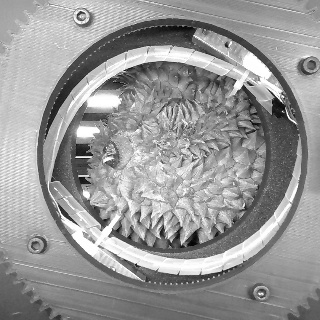base: (108, 130, 136, 174)
end: (101, 139, 120, 169)
